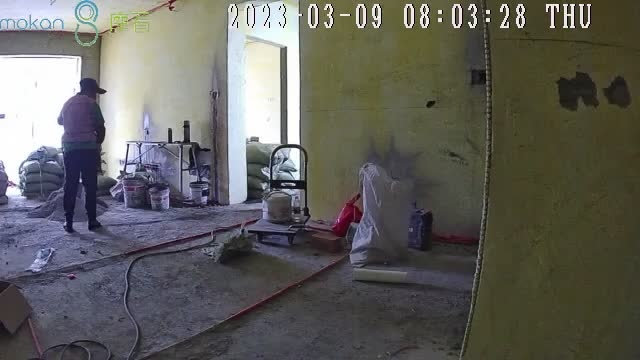people: (58, 78, 107, 232)
window: (1, 57, 80, 168)
